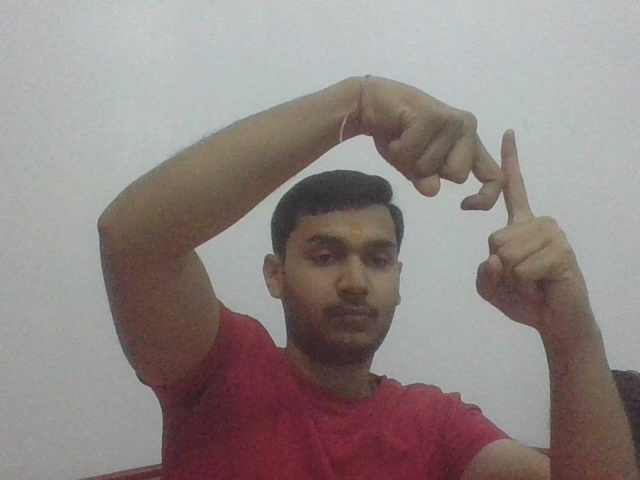K: (453, 113, 562, 236)
